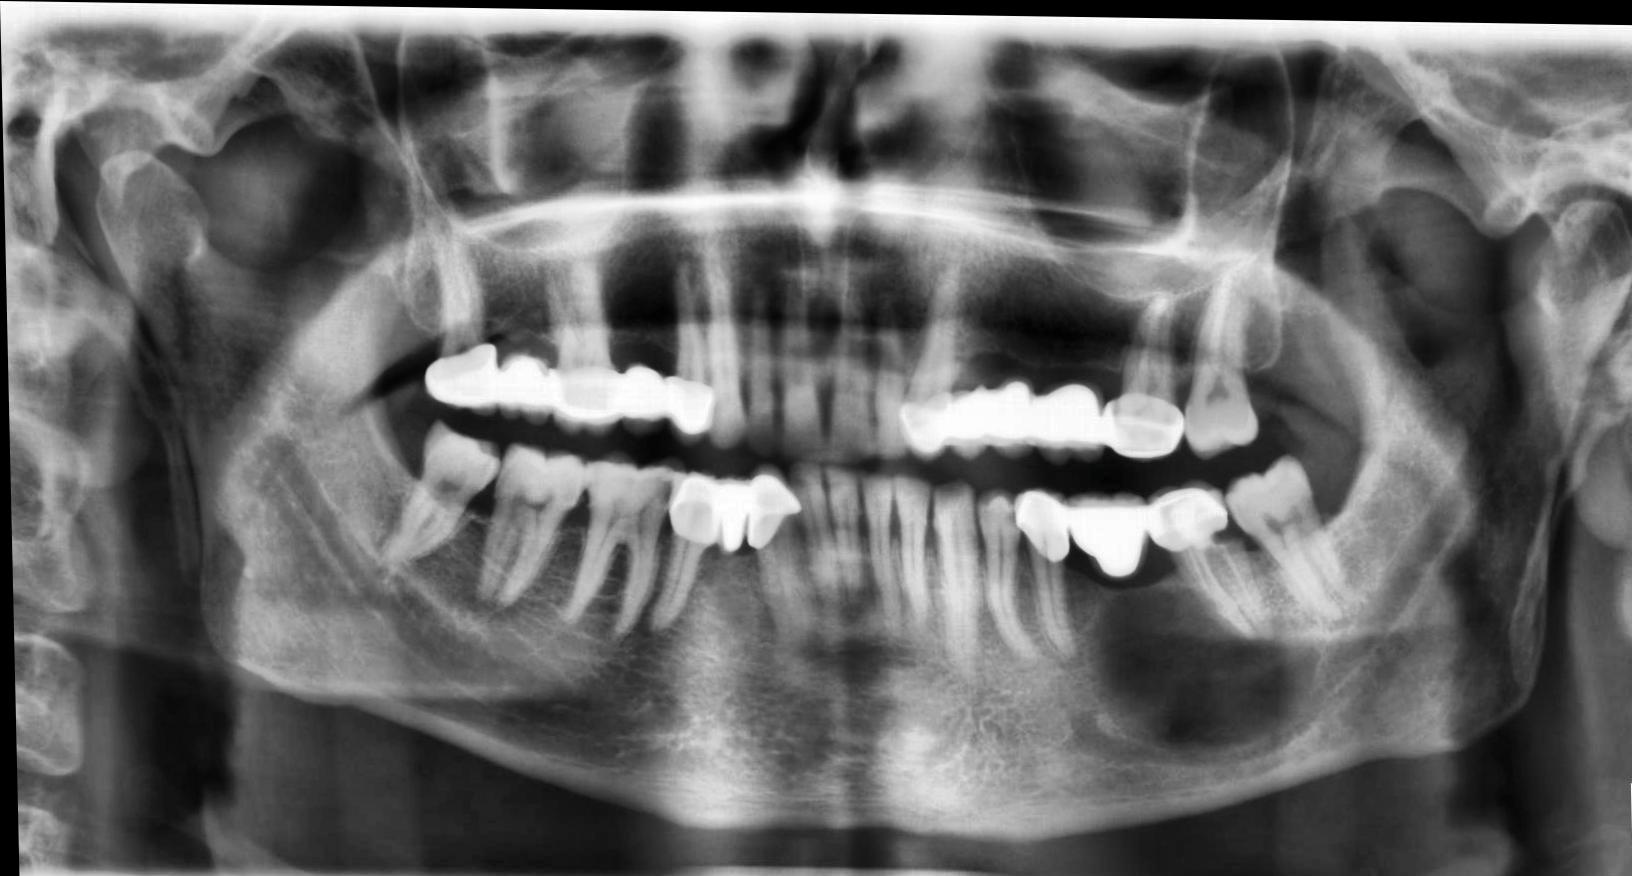radicular: (1076, 573, 1327, 755)
